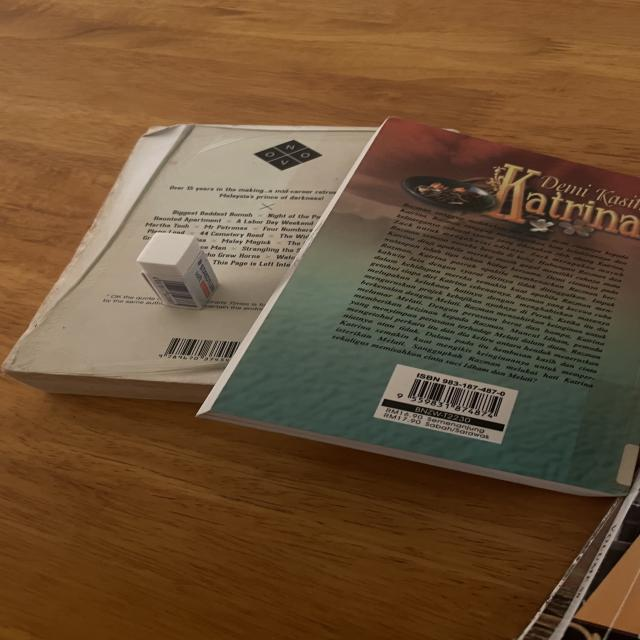eraser: (137, 233, 218, 309)
